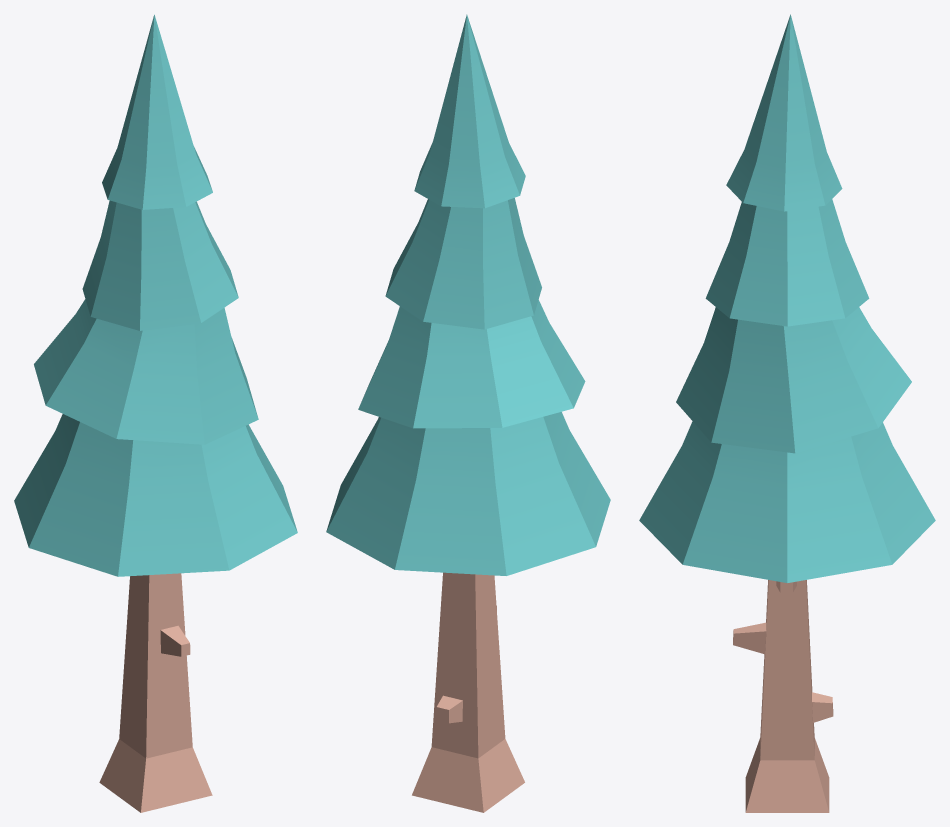
The model's file is tree_pineDefaultB.gltf.
3 renders of one model, left to right at view 1: azimuth 30°, elevation 25°; view 2: azimuth 150°, elevation 25°; view 3: azimuth 270°, elevation 25°, orthographic.
Visible parts, largest first — view 1: tree_pineDefaultB; view 2: tree_pineDefaultB; view 3: tree_pineDefaultB.
Part boxes in pixels (<box>): tree_pineDefaultB: <box>14,14,297,812</box>; tree_pineDefaultB: <box>326,14,610,812</box>; tree_pineDefaultB: <box>639,14,935,812</box>.
Size of the model in its own units: 0.532 by 1.55 by 0.532.
